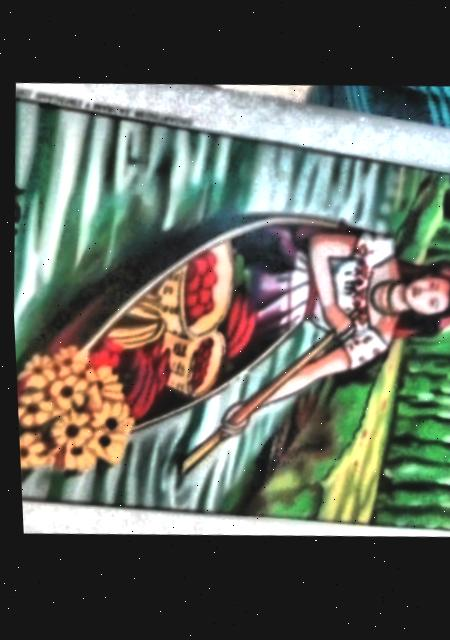La Chalupa: (11, 97, 450, 534)
